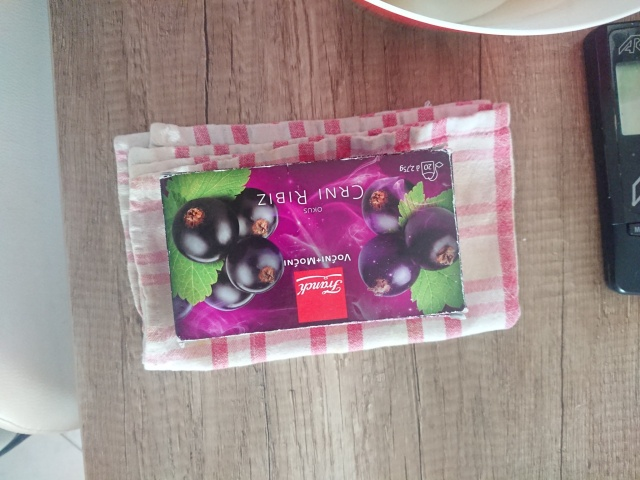Franck Black Currant Tea 60g: (156, 142, 471, 346)
